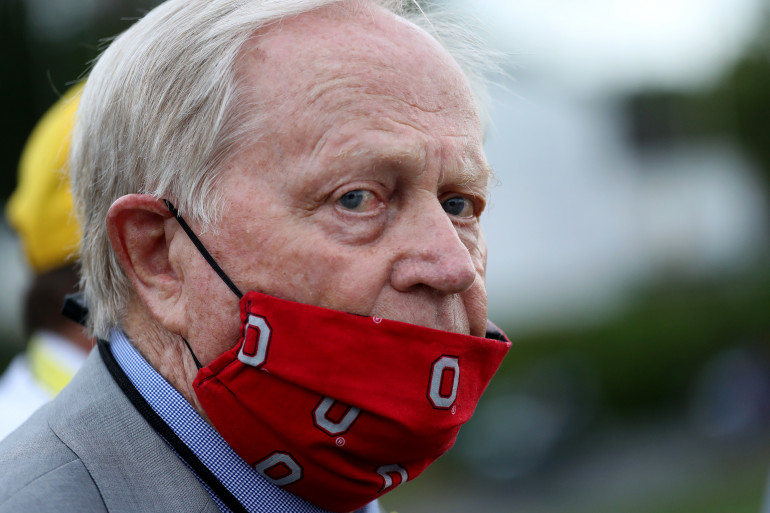with_incorrect_mask: (198, 24, 491, 497)
